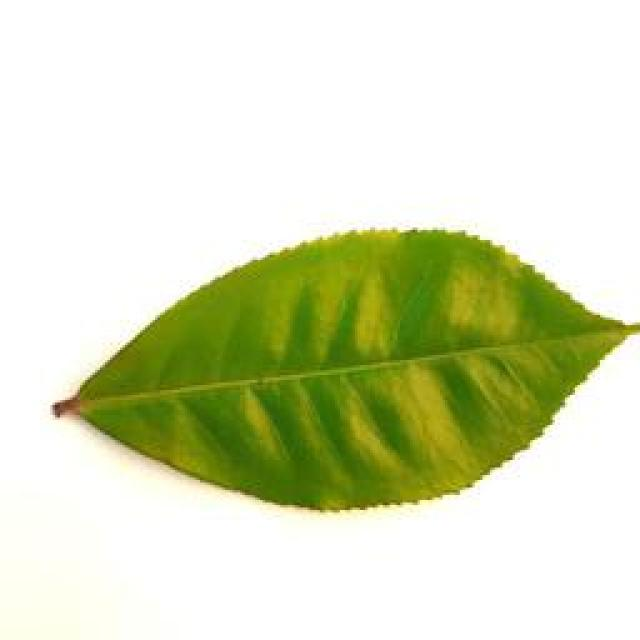Healthy: (56, 223, 640, 512)
